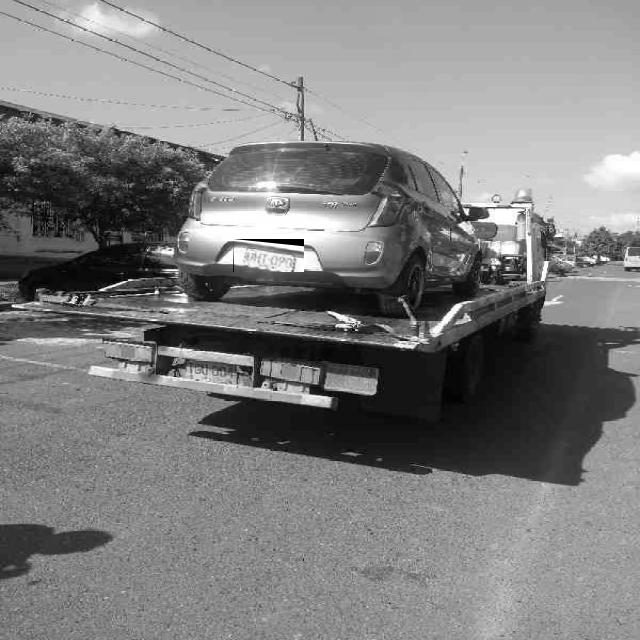plate: (234, 240, 304, 272)
